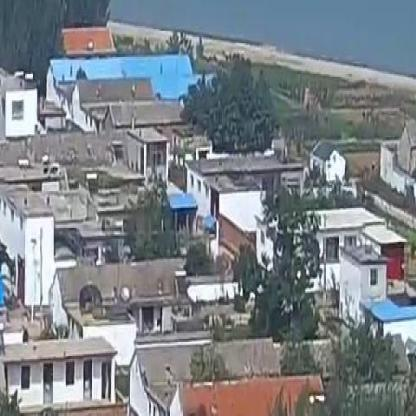other: (172, 363, 336, 413), (48, 18, 128, 52), (380, 252, 409, 291)
